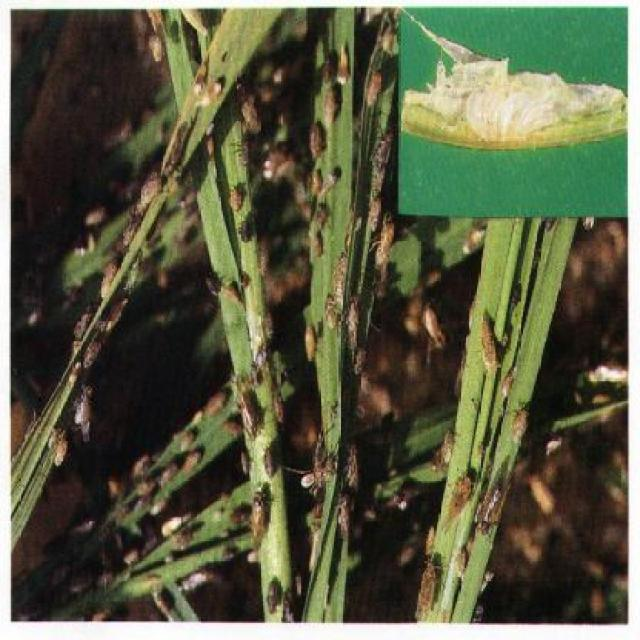brown-planthopper: (441, 472, 477, 530), (415, 554, 442, 620), (479, 487, 512, 538), (478, 309, 500, 377), (235, 73, 259, 133), (141, 170, 164, 215), (248, 496, 268, 544), (76, 386, 92, 440), (374, 224, 394, 267), (99, 259, 121, 298), (435, 432, 456, 472), (205, 386, 232, 417), (73, 304, 95, 342), (238, 398, 256, 442), (346, 303, 360, 355), (200, 79, 222, 110), (378, 126, 394, 168), (365, 74, 384, 106), (338, 46, 353, 86), (322, 293, 338, 330), (344, 444, 358, 485), (514, 406, 528, 446), (308, 119, 322, 159), (52, 437, 70, 468), (323, 85, 337, 124), (184, 450, 204, 476), (225, 278, 242, 308), (300, 323, 314, 359), (178, 428, 200, 450), (320, 50, 334, 82), (225, 184, 242, 210), (238, 218, 254, 245), (271, 390, 283, 424), (338, 498, 348, 538), (454, 545, 466, 578), (258, 250, 270, 282), (263, 448, 275, 478), (266, 578, 277, 610), (310, 234, 322, 255)
